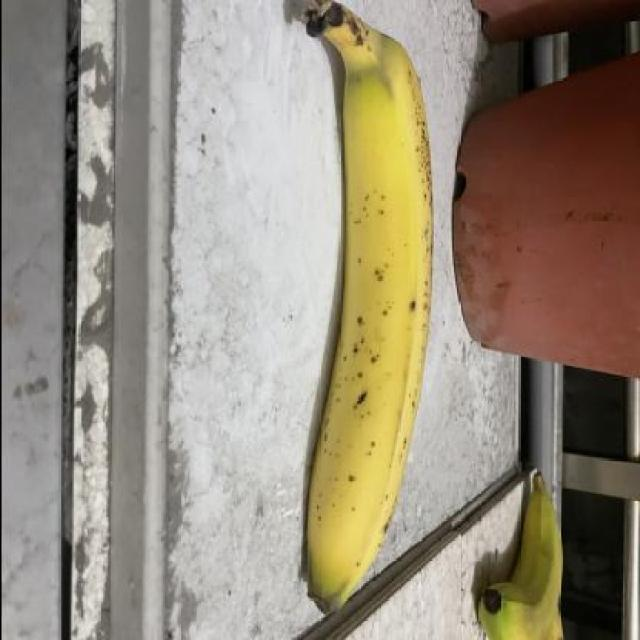Banana: (280, 5, 438, 618)
